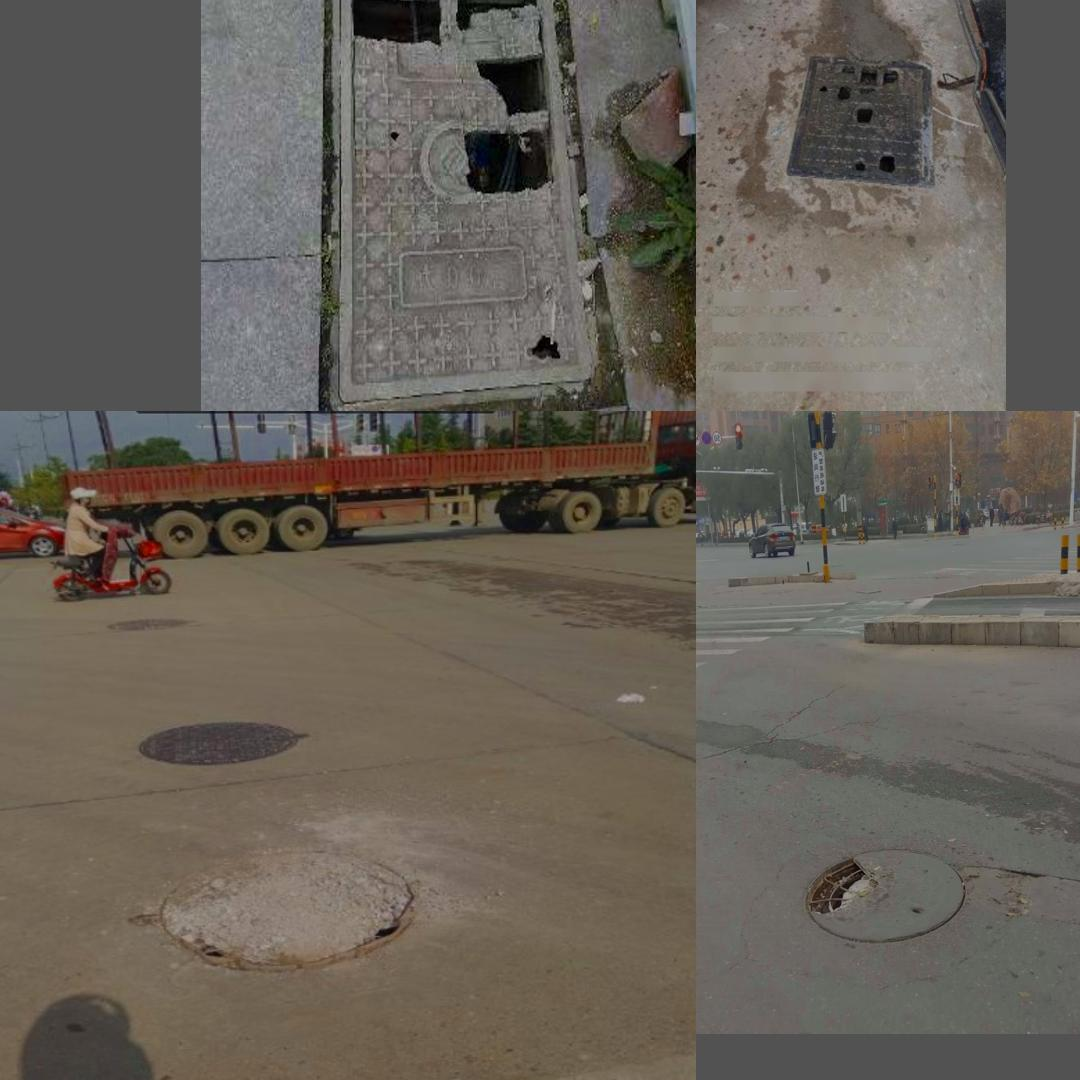broke: (329, 0, 603, 411), (132, 849, 415, 970), (786, 53, 936, 192), (804, 848, 964, 941)
good: (135, 719, 309, 768)
